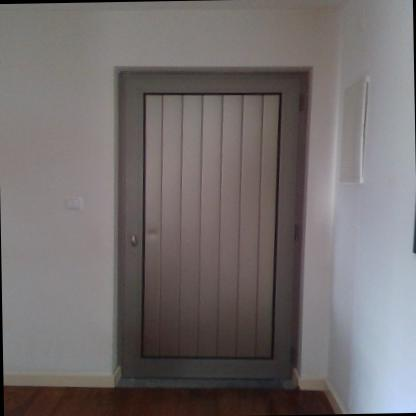closed: (96, 46, 335, 382)
